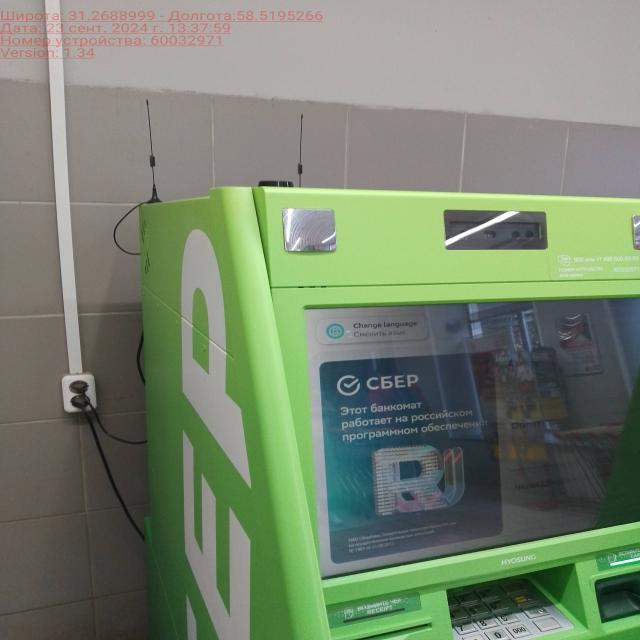bank: (125, 179, 640, 640)
